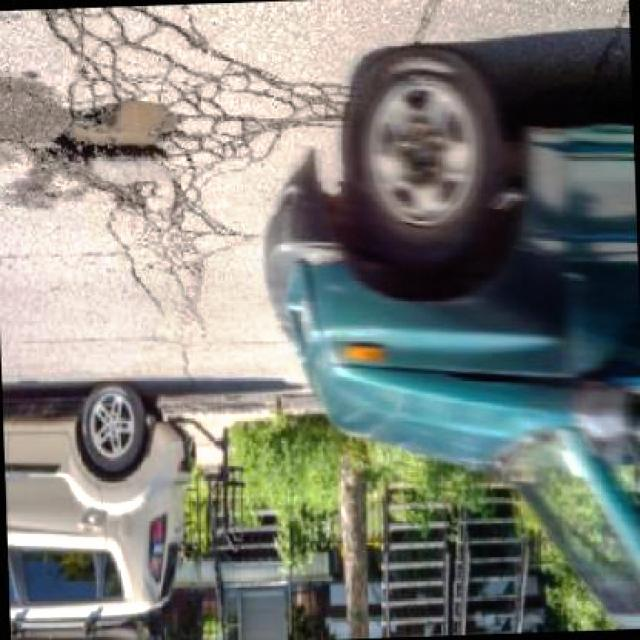pothole: (51, 95, 189, 163)
